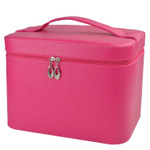shoutibox: (3, 15, 146, 145)
